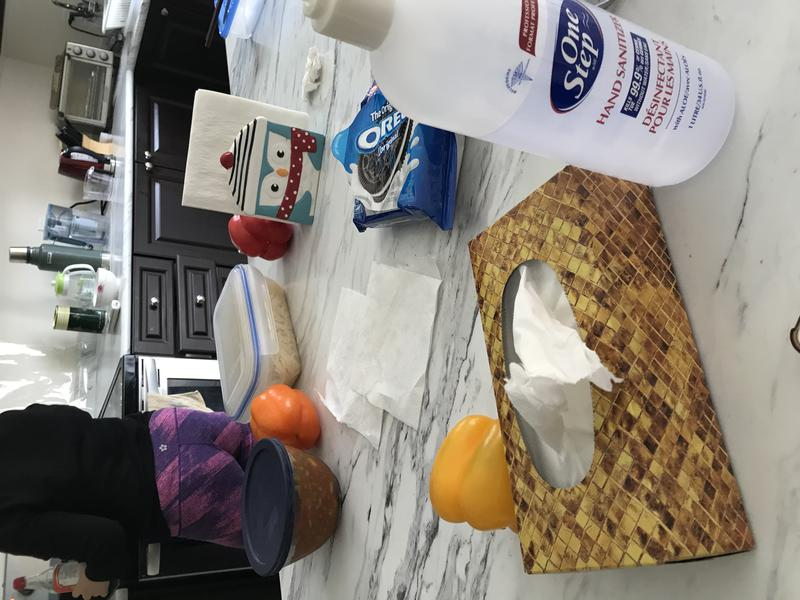orange_pepper: (245, 379, 335, 457)
red_pepper: (224, 206, 299, 267)
yellow_pepper: (418, 404, 539, 543)
